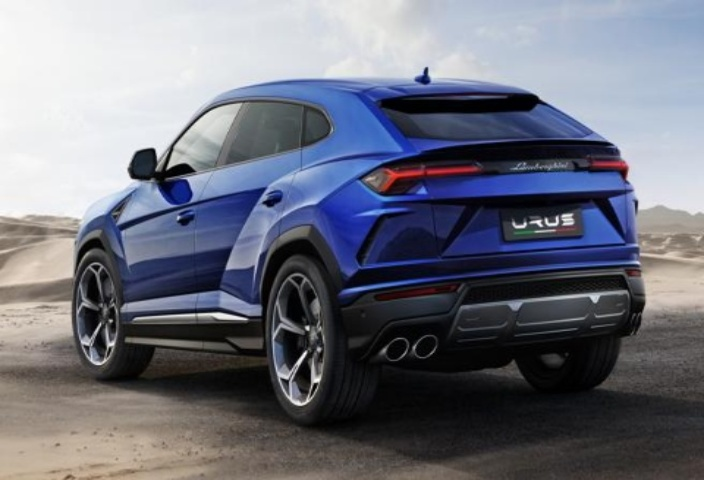camper: (30, 64, 654, 428)
